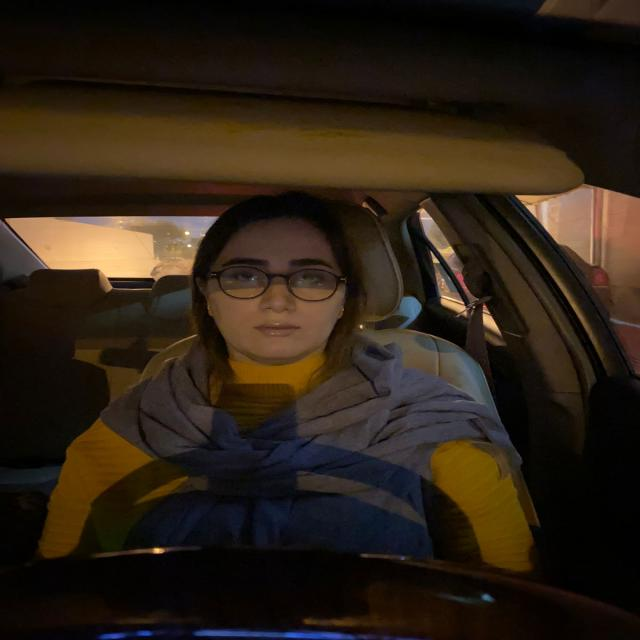person: (191, 207, 352, 358)
